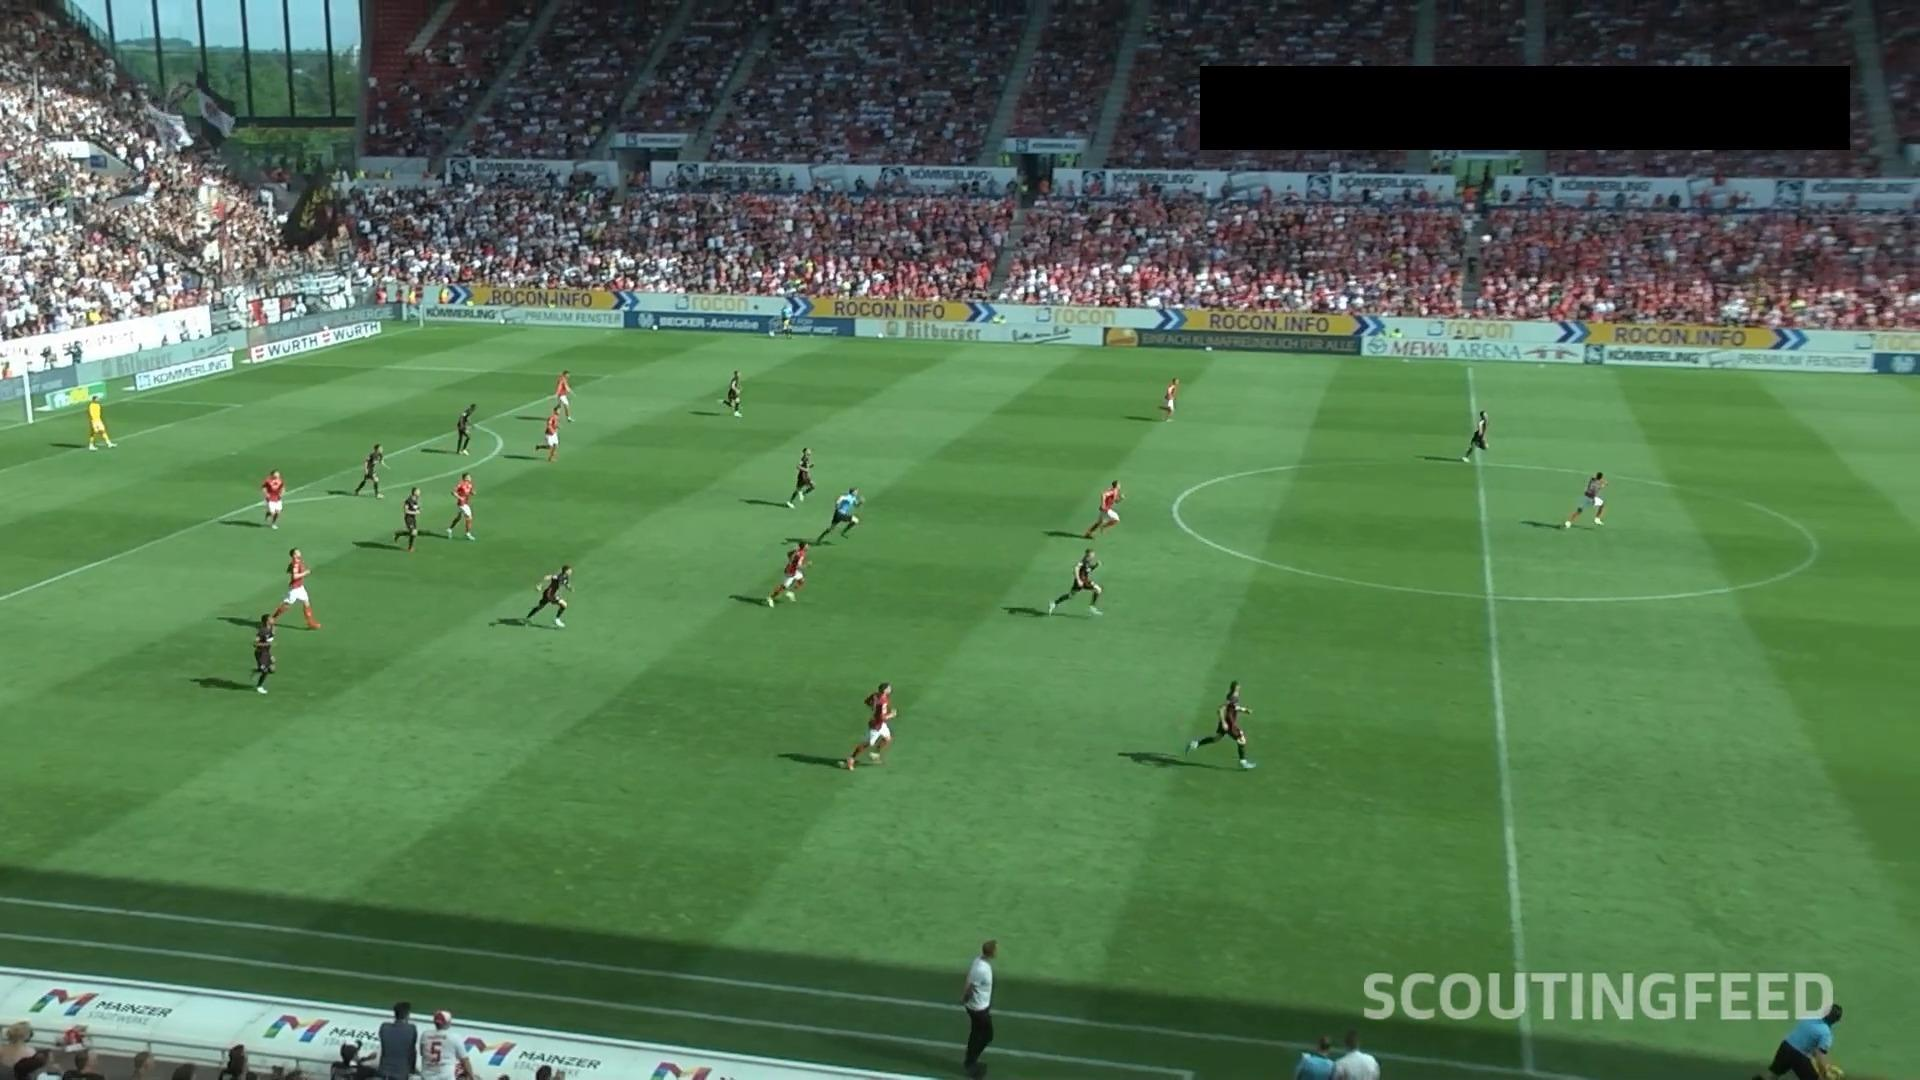ball: (1481, 233, 1491, 244)
